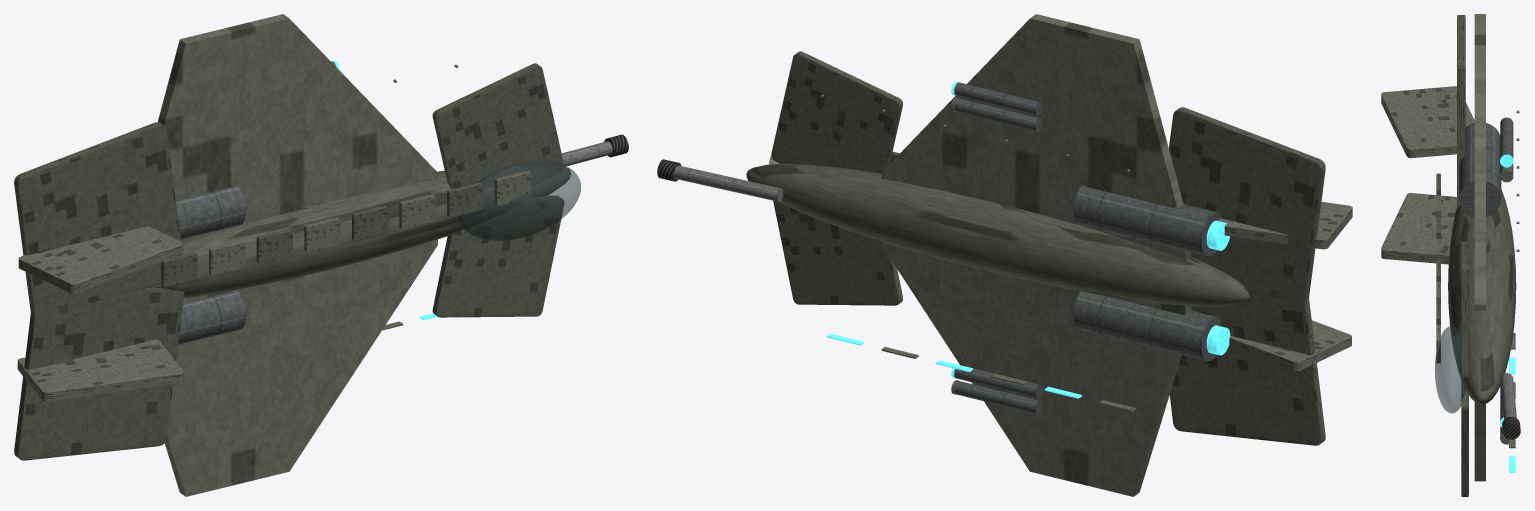
File: v-u25-vanguard-multirole-aircraft-lod0.glb
3 views of the same model, side by side, from view 1: azimuth 30°, elevation 25°; view 2: azimuth 150°, elevation 25°; view 3: azimuth 270°, elevation 25° (orthographic). The views are drawn at different scales.
Parts seen in each view (by area): view 1: combat_main_wing, combat_tailplane_1, combat_tailplane_-1, combat_fuselage, canard_-1, canard_1, combat_fin_-1, combat_fin_1, combat_canopy, combat_engine_1, combat_engine_0, airframe_panel_2 (+8 smaller); view 2: combat_main_wing, combat_fuselage, combat_tailplane_1, combat_tailplane_-1, canard_1, canard_-1, combat_engine_1, combat_engine_0, combat_fin_-1, combat_fin_1, combat_gun_barrel_0, combat_1_tube_2 (+3 smaller); view 3: combat_fuselage, combat_fin_1, combat_main_wing, combat_fin_-1, combat_engine_1, combat_canopy, combat_tailplane_1, canard_1, canard_-1, combat_gun_barrel_0, combat_1_tube_2, combat_gun_muzzle_0 (+1 smaller).
Part boxes in pixels (left/top/right/bottom): combat_main_wing: left=158, top=14, right=437, bottom=496; combat_tailplane_1: left=14, top=122, right=182, bottom=320; combat_tailplane_-1: left=14, top=287, right=184, bottom=460; combat_fuselage: left=148, top=166, right=570, bottom=298; canard_-1: left=432, top=196, right=563, bottom=317; canard_1: left=432, top=63, right=564, bottom=189; combat_fin_-1: left=17, top=339, right=183, bottom=401; combat_fin_1: left=18, top=226, right=183, bottom=293; combat_canopy: left=458, top=161, right=581, bottom=240; combat_engine_1: left=176, top=185, right=245, bottom=239; combat_engine_0: left=178, top=290, right=245, bottom=344; airframe_panel_2: left=256, top=229, right=292, bottom=264; combat_main_wing: left=881, top=14, right=1191, bottom=496; combat_fuselage: left=746, top=164, right=1249, bottom=306; combat_tailplane_1: left=1169, top=107, right=1325, bottom=305; combat_tailplane_-1: left=1169, top=287, right=1325, bottom=445; canard_1: left=771, top=51, right=902, bottom=173; canard_-1: left=773, top=200, right=902, bottom=305; combat_engine_1: left=1073, top=185, right=1220, bottom=256; combat_engine_0: left=1073, top=291, right=1220, bottom=360; combat_fin_-1: left=1228, top=320, right=1351, bottom=371; combat_fin_1: left=1217, top=201, right=1352, bottom=249; combat_gun_barrel_0: left=674, top=165, right=783, bottom=201; combat_1_tube_2: left=954, top=82, right=1042, bottom=115; combat_fuselage: left=1448, top=189, right=1516, bottom=404; combat_fin_1: left=1381, top=86, right=1474, bottom=158; combat_main_wing: left=1474, top=14, right=1485, bottom=481; combat_fin_-1: left=1381, top=193, right=1456, bottom=264; combat_engine_1: left=1459, top=123, right=1501, bottom=217; combat_canopy: left=1434, top=326, right=1465, bottom=413; combat_tailplane_1: left=1457, top=15, right=1465, bottom=208; canard_1: left=1461, top=241, right=1468, bottom=378; canard_-1: left=1461, top=380, right=1468, bottom=496; combat_gun_barrel_0: left=1500, top=373, right=1516, bottom=419; combat_1_tube_2: left=1500, top=117, right=1513, bottom=158; combat_gun_muzzle_0: left=1502, top=416, right=1520, bottom=439.
Size of what is drawn, in the model's own units: 14.2 by 9.68 by 2.91.
Materials: 7 (7 with a texture image).
